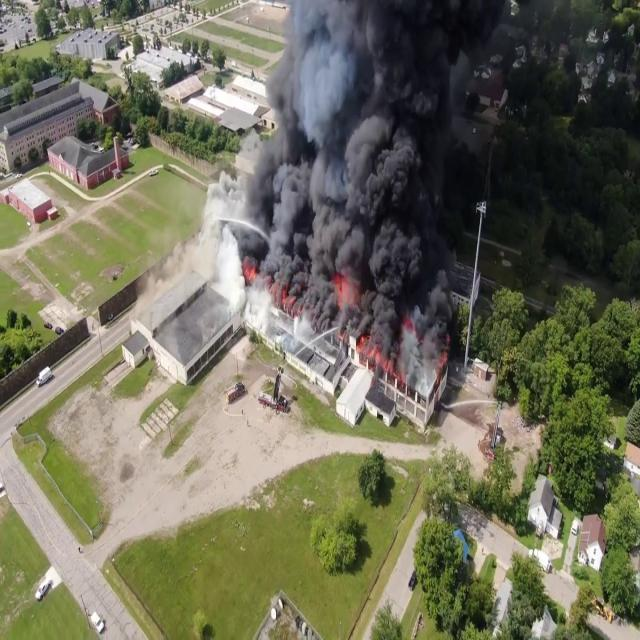Smoke: (206, 0, 548, 320)
